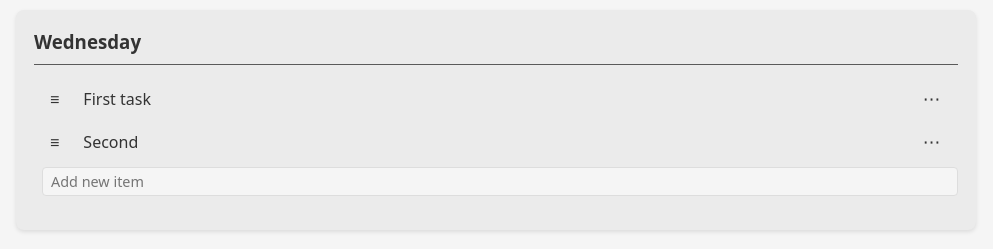
it: DayCard › changes the saved item into an editable item input when clicked and the cursor is on the expected character
Click the button "First task" at (88, 99), box left=83, top=88, right=151, bottom=110
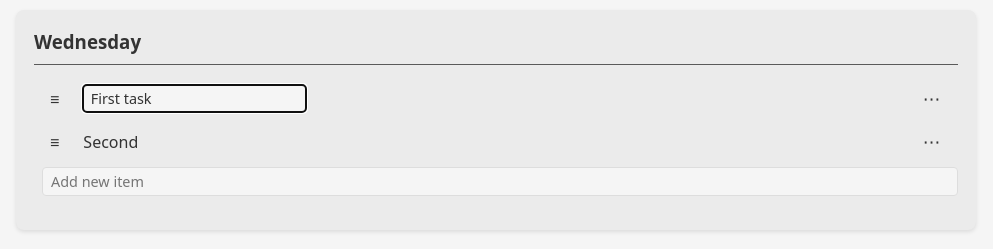
Expected: the field named "Edit First task" holds "First task", left=82, top=84, right=307, bottom=113
